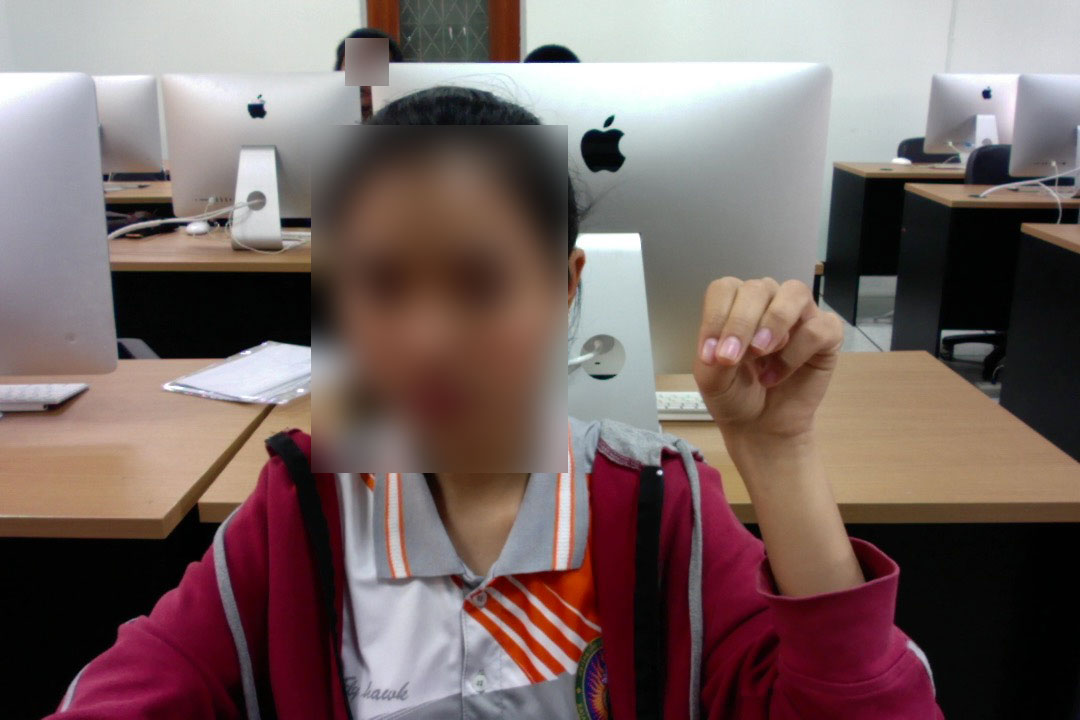mor: (686, 264, 850, 455)
